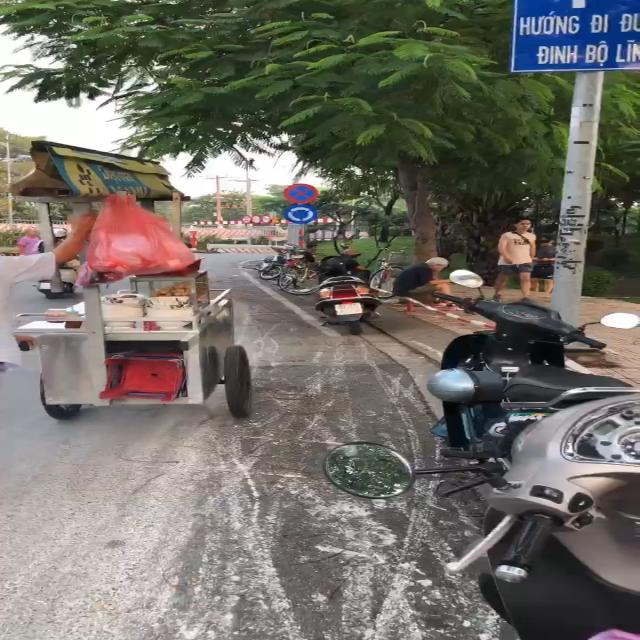Bien bao cam dung xe va do xe: (283, 182, 326, 204)
Bien bao noi giao nhau chay theo vong xuyen: (282, 204, 327, 225)
